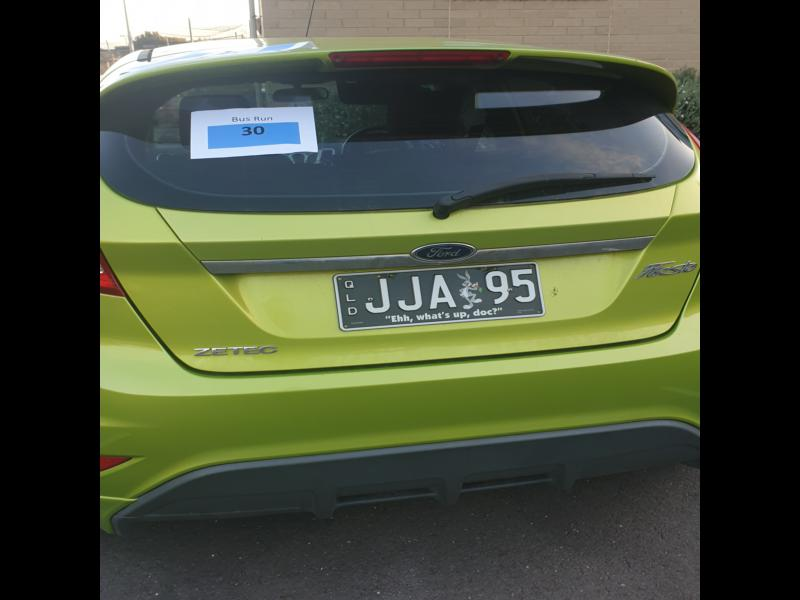BusRun: (205, 120, 300, 148)
PlateNo: (337, 260, 545, 330)
